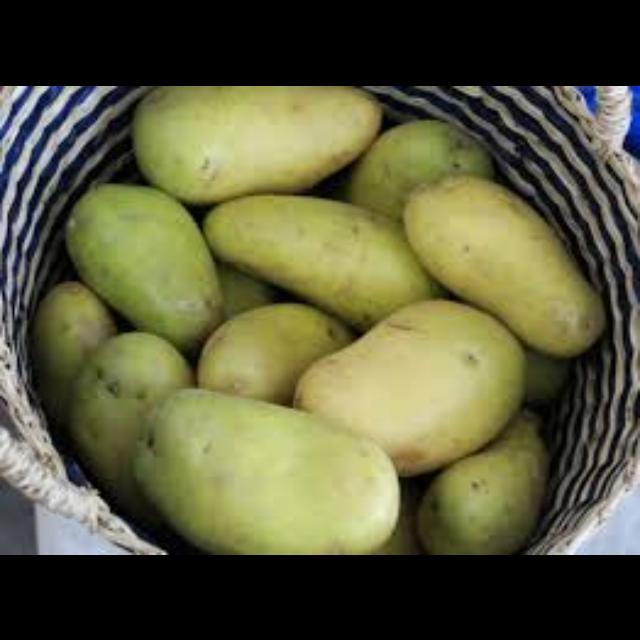Defected potato: (125, 366, 411, 554), (292, 297, 540, 487), (393, 165, 611, 362), (196, 179, 450, 335), (61, 176, 243, 360), (118, 85, 390, 195), (174, 292, 368, 424), (76, 316, 202, 514), (420, 402, 562, 554), (344, 108, 500, 242), (28, 278, 114, 434)
